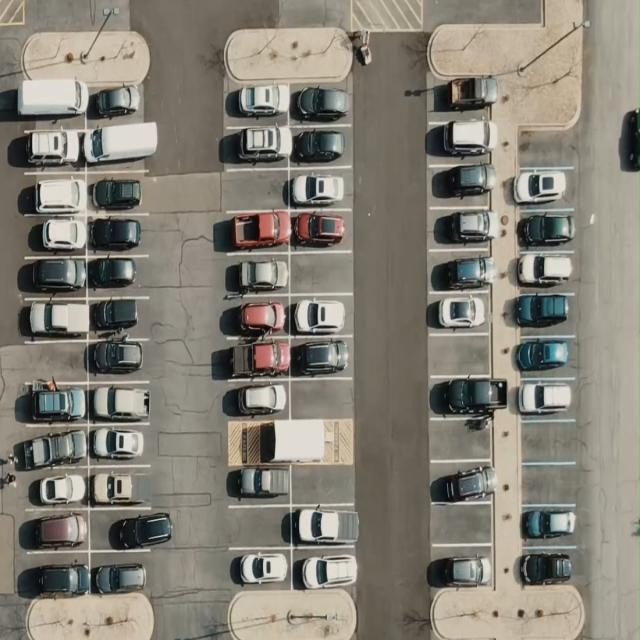space-empty: (21, 340, 88, 384), (430, 418, 496, 462), (429, 332, 492, 377), (226, 504, 290, 548), (290, 250, 352, 294), (290, 378, 353, 421), (517, 421, 580, 464), (290, 462, 353, 505), (222, 169, 288, 210), (516, 126, 578, 169), (519, 462, 580, 505), (431, 504, 492, 546)
space-occupied: (82, 116, 154, 169), (15, 119, 84, 173), (14, 78, 88, 126), (222, 373, 290, 424), (19, 294, 88, 343), (430, 374, 504, 419), (290, 498, 356, 548), (425, 244, 493, 292), (18, 464, 88, 509), (427, 117, 500, 160), (22, 552, 90, 598), (90, 510, 168, 550), (19, 171, 86, 217), (223, 292, 290, 338), (220, 335, 290, 379), (21, 423, 89, 468), (89, 464, 158, 508), (224, 80, 290, 126), (428, 162, 496, 206), (85, 169, 151, 214), (222, 209, 288, 254), (290, 546, 357, 590), (428, 287, 492, 333), (224, 544, 292, 587), (22, 509, 90, 552), (223, 126, 290, 169), (428, 75, 495, 118), (88, 380, 152, 425), (513, 248, 577, 293), (514, 376, 576, 422), (86, 213, 152, 256), (514, 332, 577, 377), (430, 206, 493, 251), (290, 334, 352, 379), (228, 461, 290, 506), (222, 254, 290, 295), (511, 290, 575, 333), (289, 292, 350, 337), (289, 206, 350, 251), (431, 460, 492, 505), (25, 378, 86, 423), (21, 256, 86, 298), (515, 546, 580, 588), (89, 335, 148, 381), (520, 501, 580, 546), (86, 257, 150, 299), (513, 164, 574, 208), (24, 214, 86, 257), (92, 552, 152, 596), (288, 166, 349, 209), (428, 548, 493, 588), (88, 422, 148, 465), (290, 85, 350, 126), (88, 296, 148, 337), (516, 210, 578, 249), (90, 85, 151, 124), (291, 128, 351, 167)
